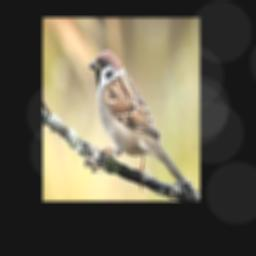Sparrow: (88, 50, 184, 188)
